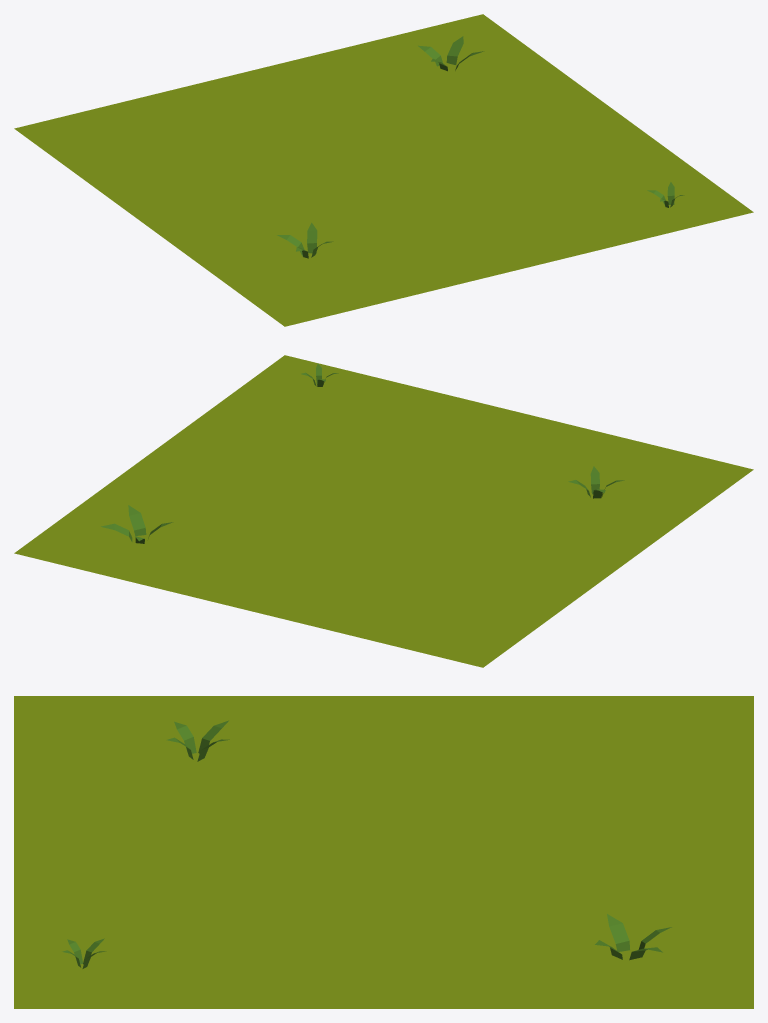
Rendered from grass02.fbx.
The picture shows the model from 3 angles, top to bottom: view 1: azimuth 30°, elevation 25°; view 2: azimuth 150°, elevation 25°; view 3: azimuth 270°, elevation 25°; orthographic projection. The views are drawn at different scales.
Parts seen in each view (by area): view 1: grass02; view 2: grass02; view 3: grass02.
Part boxes in pixels (x1,y1,x2,y2): grass02: (14, 14, 753, 326); grass02: (14, 355, 753, 667); grass02: (14, 696, 753, 1008).
Bounding box in the file's own units: 100 × 5.9 × 100.
